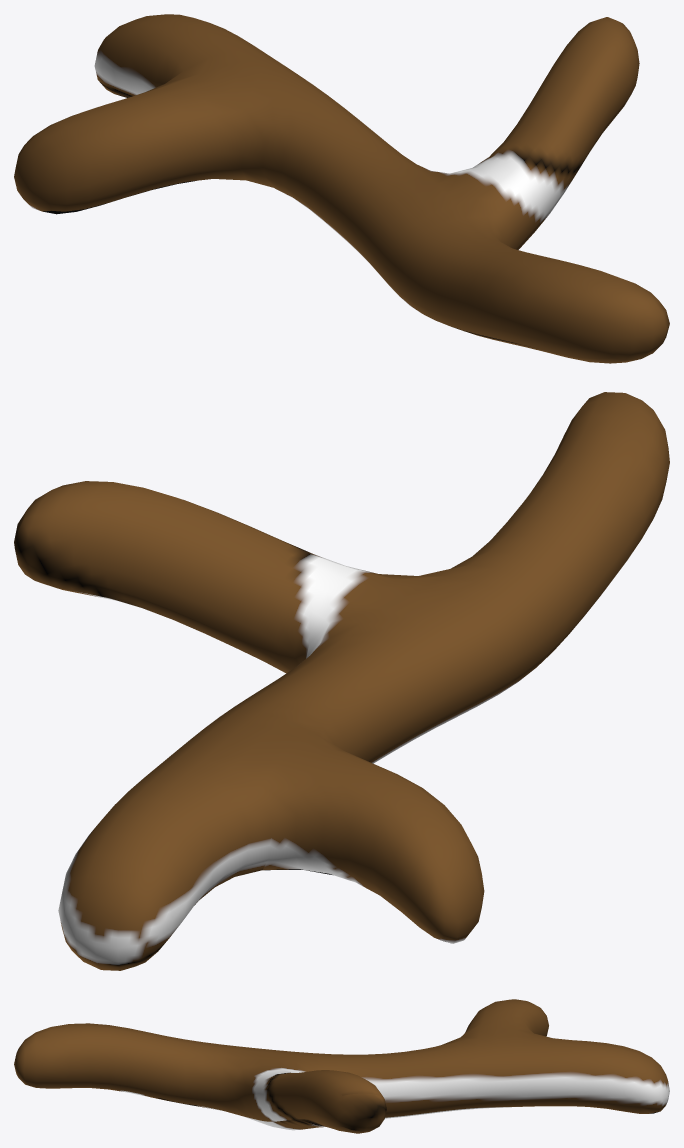
Rendered from Wood.fbx.
3 views of the same model, one above another, from view 1: azimuth 30°, elevation 25°; view 2: azimuth 150°, elevation 25°; view 3: azimuth 270°, elevation 25° (orthographic). The views are drawn at different scales.
Visible parts, largest first — view 1: Cube; view 2: Cube; view 3: Cube.
Boxes of the visible parts, box(x1,y1,x2,y2) form: Cube: box(14, 14, 669, 363); Cube: box(14, 392, 669, 970); Cube: box(14, 999, 669, 1133).
Size of the model in its own units: 213 by 71.6 by 366.
1 material, 1 textured.
